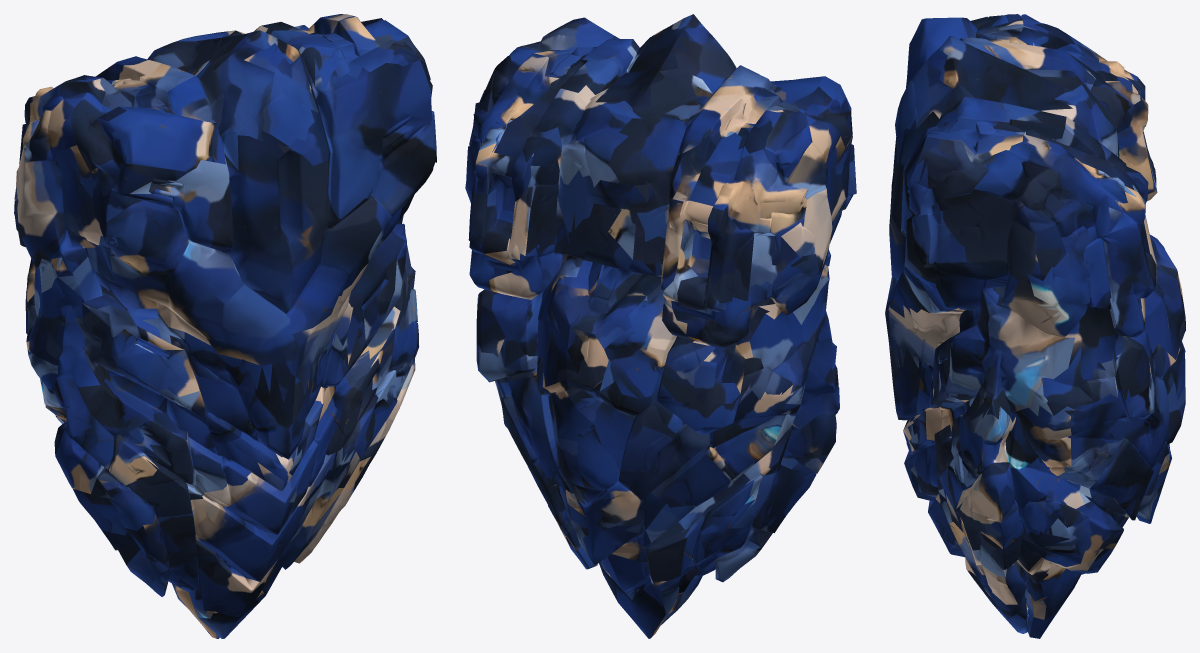
Rendered from FlightUnitBackpack.gltf.
The picture shows the model from 3 angles, left to right: view 1: azimuth 30°, elevation 25°; view 2: azimuth 150°, elevation 25°; view 3: azimuth 270°, elevation 25°; orthographic projection. The views are drawn at different scales.
Parts seen in each view (by area): view 1: FlightUnitBackpack; view 2: FlightUnitBackpack; view 3: FlightUnitBackpack.
Boxes of the visible parts, bbox=[...] form: FlightUnitBackpack: bbox=[14, 14, 436, 638]; FlightUnitBackpack: bbox=[465, 14, 856, 638]; FlightUnitBackpack: bbox=[885, 14, 1185, 638].
Size of the model in its own units: 0.616 by 0.9798 by 0.4432.
Materials: 1 (1 with a texture image).
